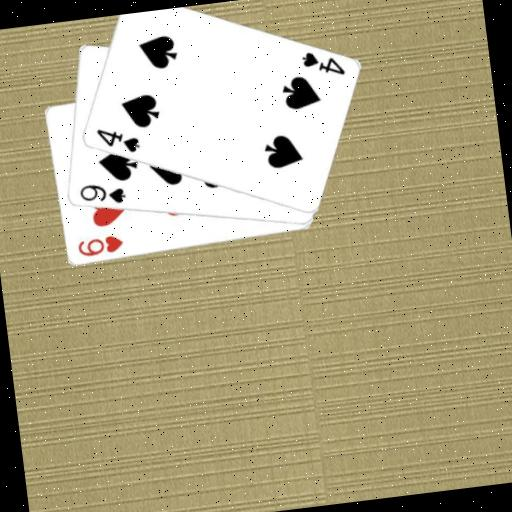4S: (93, 122, 142, 159), (298, 45, 347, 82)
6H: (73, 232, 125, 260)
9S: (75, 178, 128, 210)
